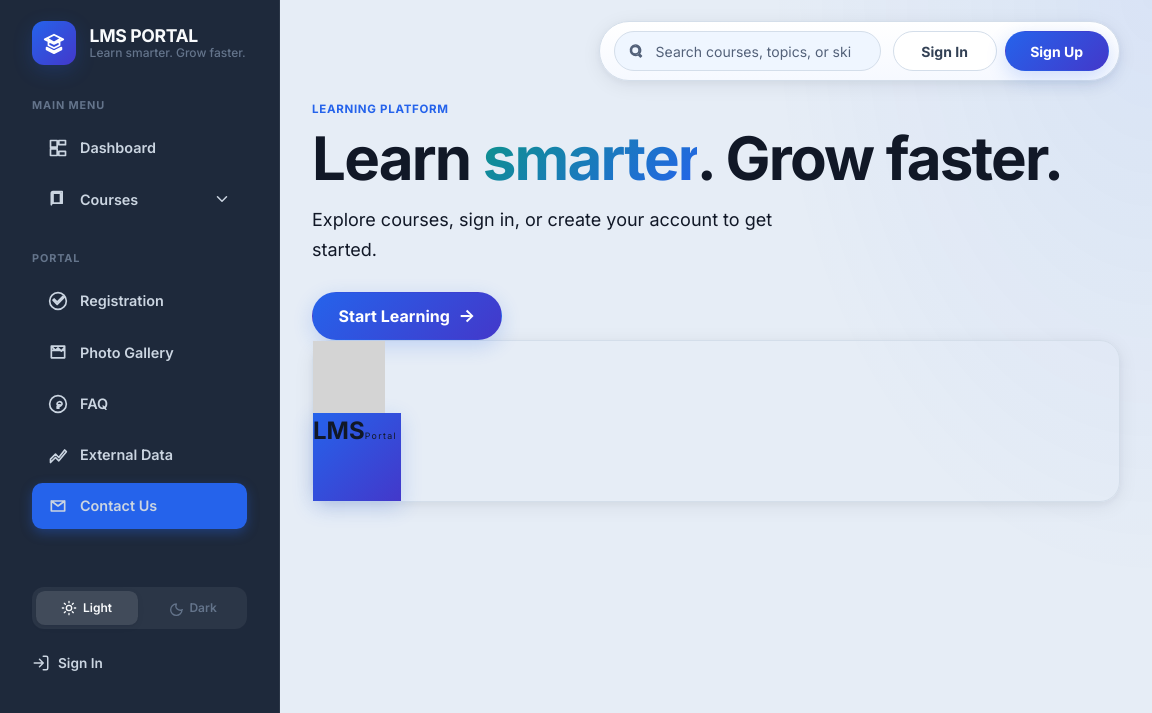
Test case: navigates from contact page to guest dashboard
Click the link "Dashboard" at (102, 148), box [48,138,156,158]
(page scrolled)
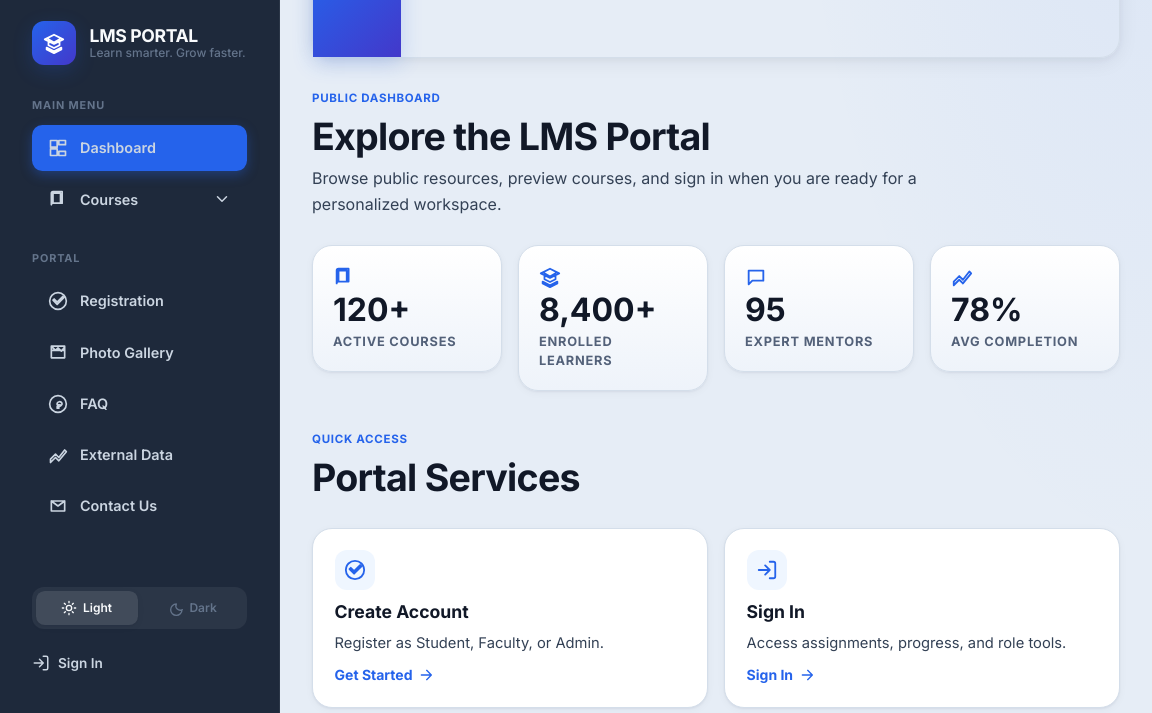
Check: the heading "Explore the LMS Portal" is shown, box [312,114,710,159]
